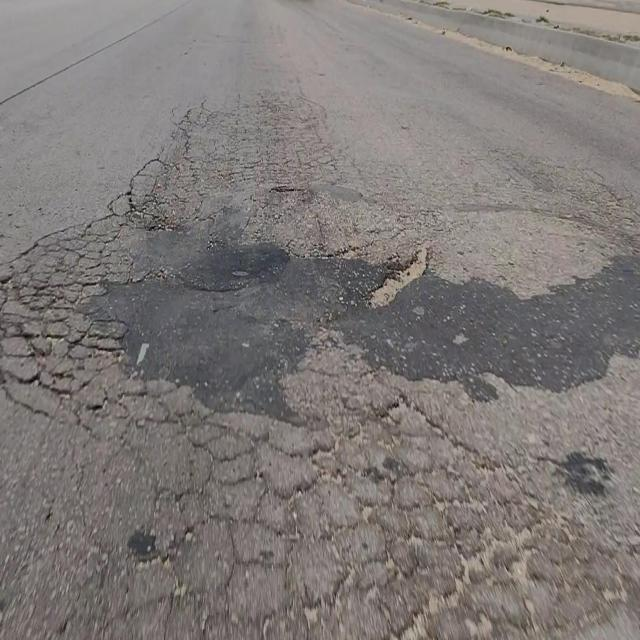Potholes: (0, 189, 165, 417), (363, 244, 431, 313)
